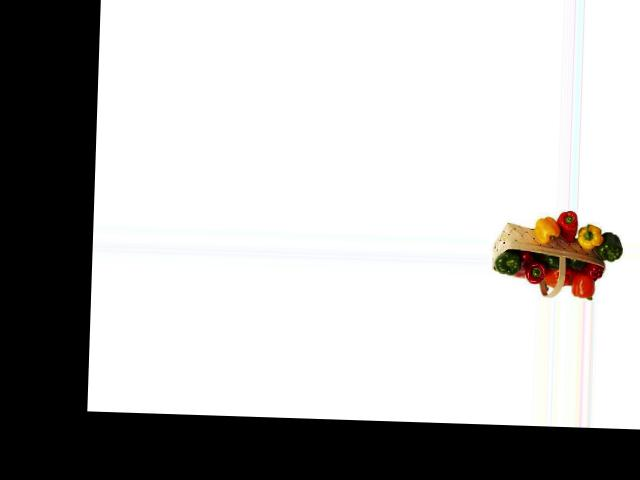bell_pepper: (495, 251, 524, 276)
